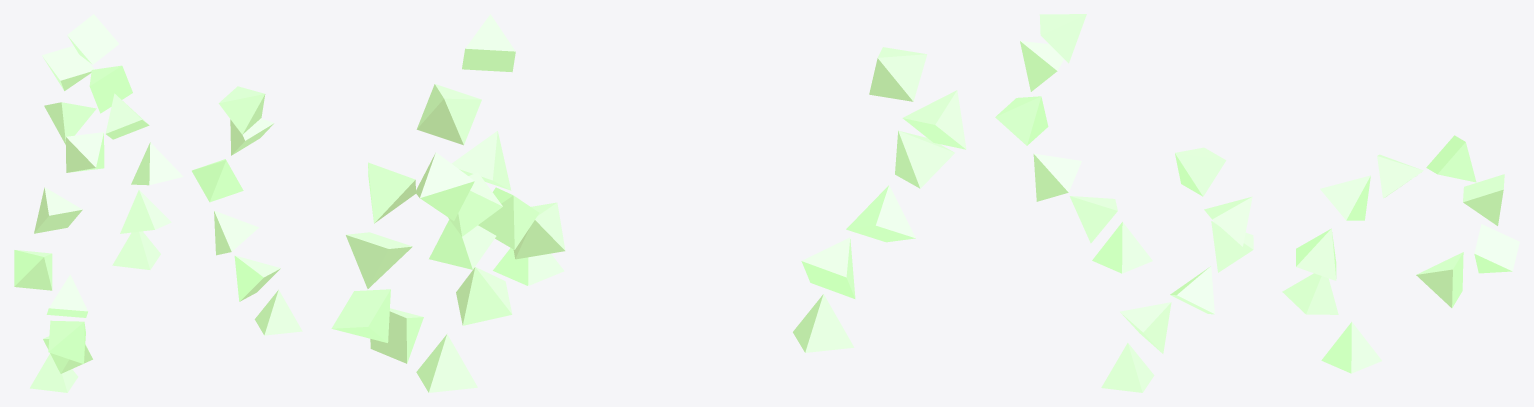
File: TEST-ALGUE1.gltf
3 renders of one model, left to right at view 1: azimuth 30°, elevation 25°; view 2: azimuth 150°, elevation 25°; view 3: azimuth 270°, elevation 25°, orthographic. The views are drawn at different scales.
Parts seen in each view (by area): view 1: Pyramid.6 (×3), Pyramid.2 (×3), Pyramid.4 (×3), Pyramid (×3), Pyramid.3 (×3), Pyramid.1 (×3), Pyramid.5, Pyramid.8, Pyramid.7; view 2: Pyramid.4 (×3), Pyramid.6 (×3), Pyramid.1 (×3), Pyramid.2 (×3), Pyramid (×3), Pyramid.3 (×3), Pyramid.7, Pyramid.5, Pyramid.8; view 3: Pyramid (×3), Pyramid.6 (×3), Pyramid.2 (×3), Pyramid.1 (×3), Pyramid.3 (×3), Pyramid.4 (×3), Pyramid.7, Pyramid.8, Pyramid.5.
Boxes of the visible parts, x1=… form: Pyramid.6 (×3): x1=34, y1=46, x2=265, y2=233; Pyramid.2 (×3): x1=48, y1=142, x2=258, y2=363; Pyramid.4 (×3): x1=14, y1=65, x2=274, y2=290; Pyramid (×3): x1=30, y1=231, x2=302, y2=392; Pyramid.3 (×3): x1=46, y1=93, x2=243, y2=317; Pyramid.1 (×3): x1=43, y1=190, x2=280, y2=373; Pyramid.5: x1=67, y1=14, x2=118, y2=64; Pyramid.8: x1=66, y1=132, x2=104, y2=172; Pyramid.7: x1=44, y1=102, x2=96, y2=144; Pyramid.4 (×3): x1=416, y1=84, x2=966, y2=220; Pyramid.6 (×3): x1=346, y1=14, x2=927, y2=288; Pyramid.1 (×3): x1=456, y1=202, x2=855, y2=325; Pyramid.2 (×3): x1=429, y1=185, x2=915, y2=269; Pyramid (×3): x1=416, y1=248, x2=854, y2=392; Pyramid.3 (×3): x1=448, y1=130, x2=954, y2=236; Pyramid.7: x1=331, y1=289, x2=390, y2=342; Pyramid.5: x1=368, y1=162, x2=415, y2=223; Pyramid.8: x1=370, y1=308, x2=423, y2=363; Pyramid (×3): x1=1092, y1=222, x2=1381, y2=392; Pyramid.6 (×3): x1=1039, y1=14, x2=1504, y2=225; Pyramid.2 (×3): x1=1033, y1=153, x2=1336, y2=314; Pyramid.1 (×3): x1=1069, y1=196, x2=1338, y2=353; Pyramid.3 (×3): x1=995, y1=96, x2=1370, y2=272; Pyramid.4 (×3): x1=1020, y1=41, x2=1423, y2=246; Pyramid.7: x1=1474, y1=224, x2=1519, y2=273; Pyramid.8: x1=1416, y1=252, x2=1463, y2=307; Pyramid.5: x1=1426, y1=135, x2=1476, y2=182.
Size of the model in its own units: 222 by 135 by 275.
